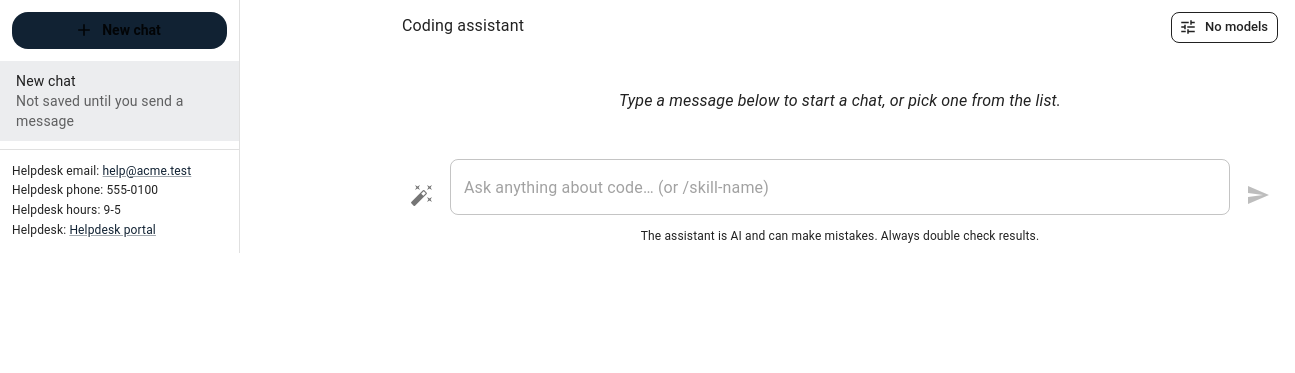
Test: chat skills and the processing indicator › the chat Skills button lists chat skills, not the agent's, and has no /clear
The width and height of the screenshot is (1295, 373).
Step 1. Click the button named "Skills" → (422, 195), box 402,175 -> 442,215
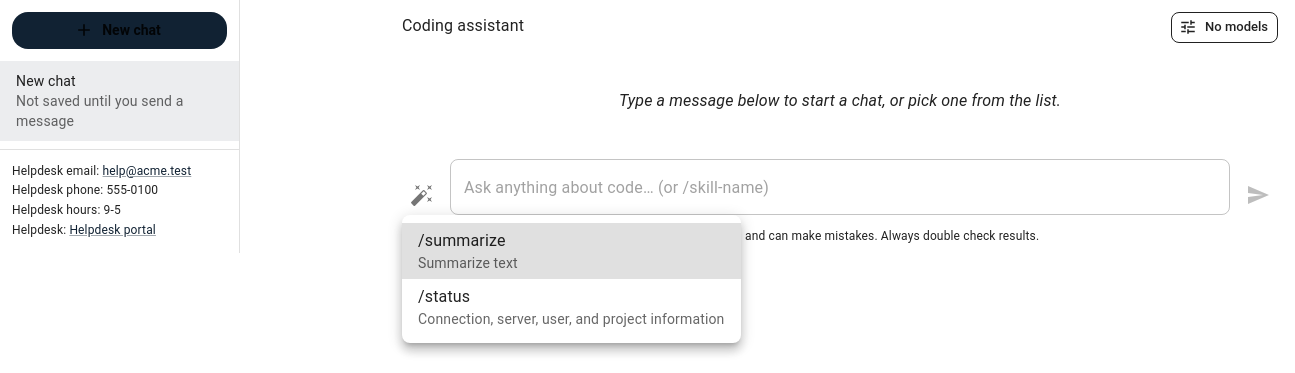
Check: the text "/summarize" is shown, box 418,231 -> 506,250
Check: the text "/status" is shown, box 418,287 -> 470,306
